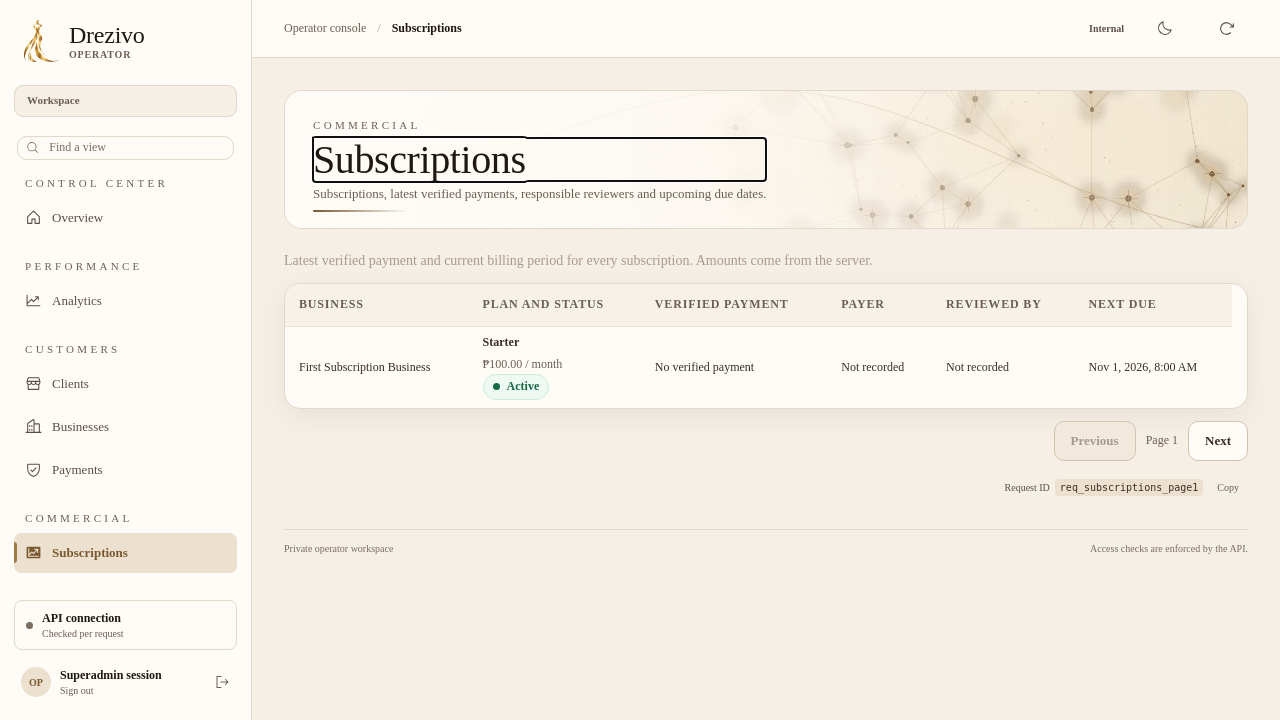
Test: App Router console pages › loads subscriptions directly and follows the returned page cursor
Expected: the link "First Subscription Business" is shown, [299, 360, 430, 374]
Click the button "Next": [1218, 441] box [1188, 421, 1248, 461]
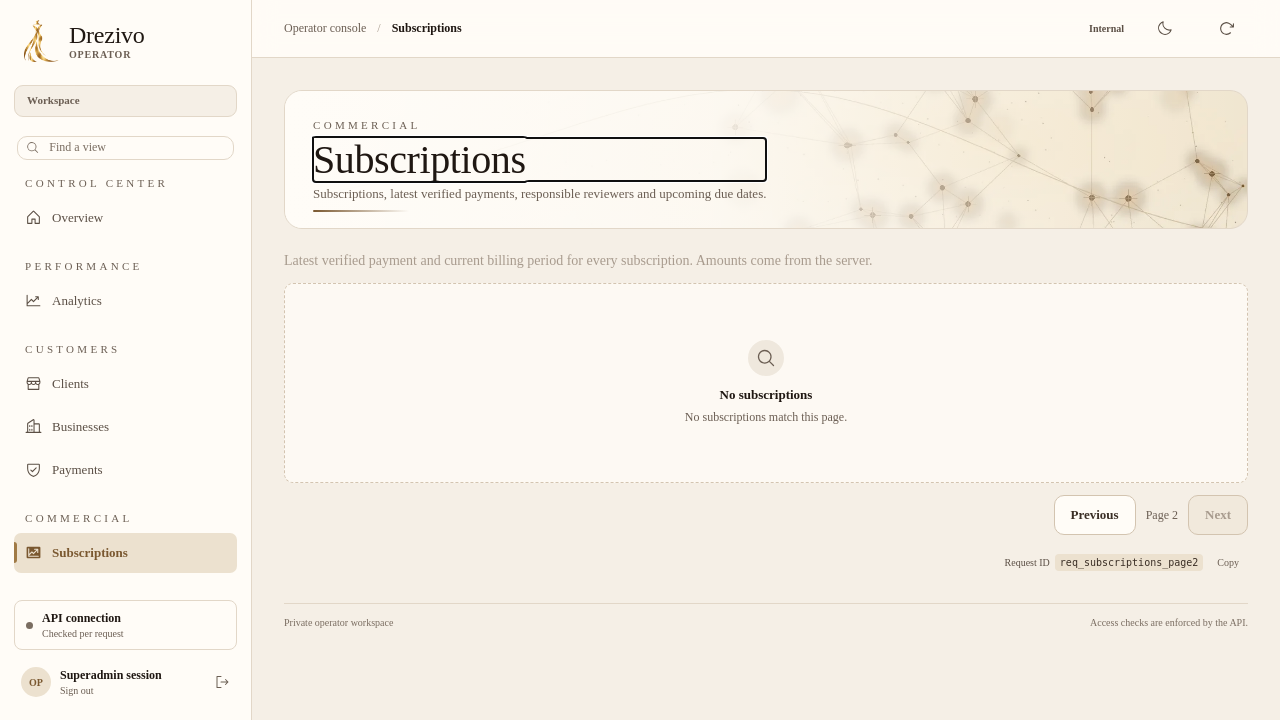
Expected: the heading "No subscriptions" is shown, [720, 387, 812, 403]
